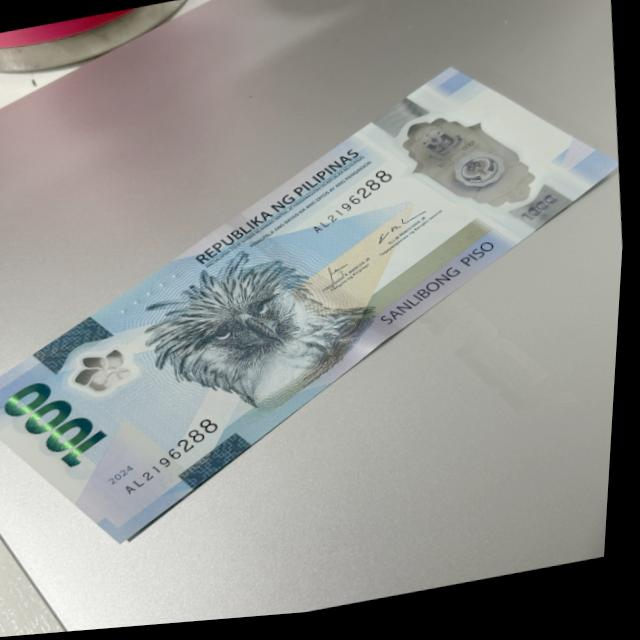clear_window: (389, 96, 544, 230)
eagle: (137, 252, 383, 415)
sampaguita: (75, 341, 145, 399)
